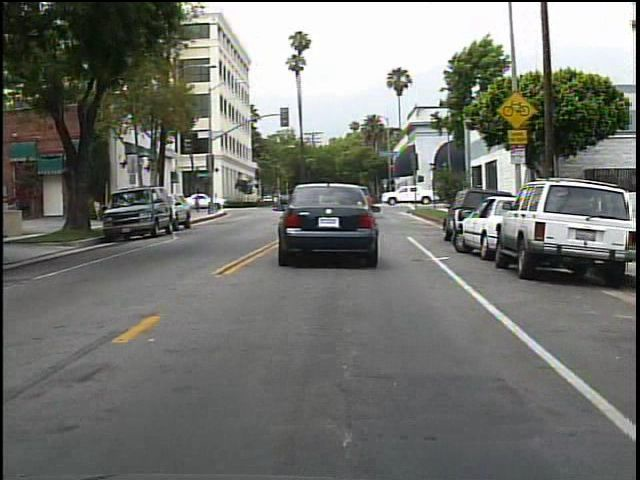person: (191, 191, 202, 219)
